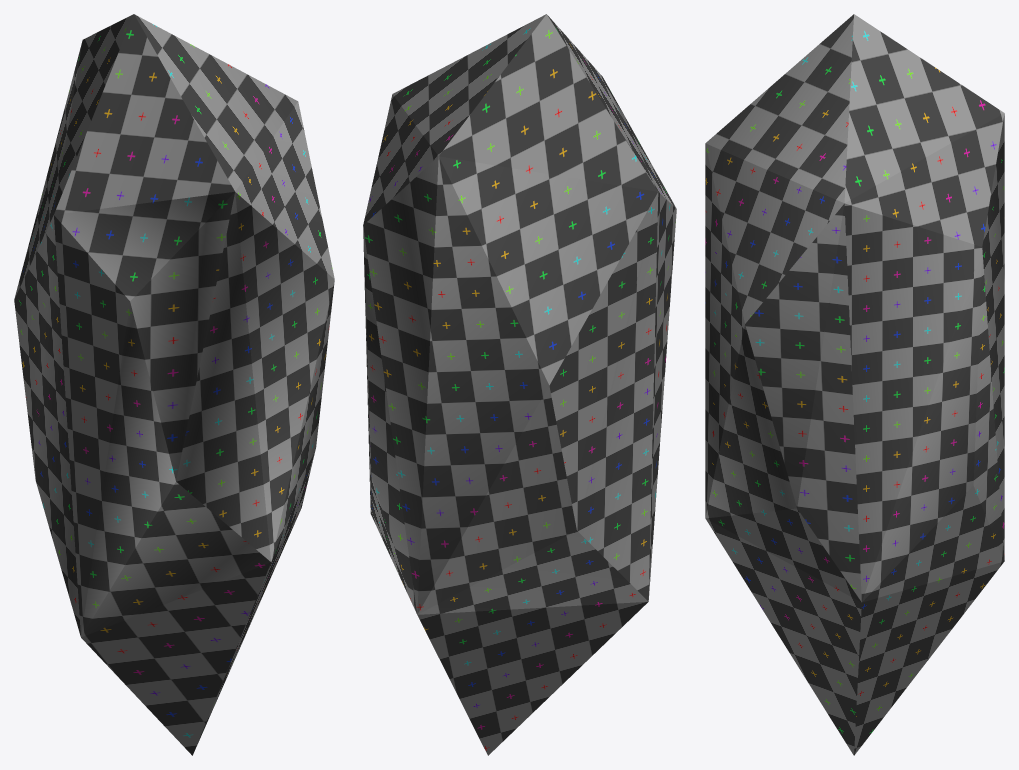
The model's file is CrystalWhole-noWear.glb.
3 views of the same model, side by side, from view 1: azimuth 30°, elevation 25°; view 2: azimuth 150°, elevation 25°; view 3: azimuth 270°, elevation 25° (orthographic). The views are drawn at different scales.
Visible parts, largest first — view 1: CrystalWhole; view 2: CrystalWhole; view 3: CrystalWhole.
Part boxes in pixels (x1,y1,x2,y2): CrystalWhole: (14,14,334,755); CrystalWhole: (363,14,676,755); CrystalWhole: (705,14,1004,755).
Size of the model in its own units: 1.48 by 3.99 by 1.51.
Materials: 1 (1 with a texture image).
